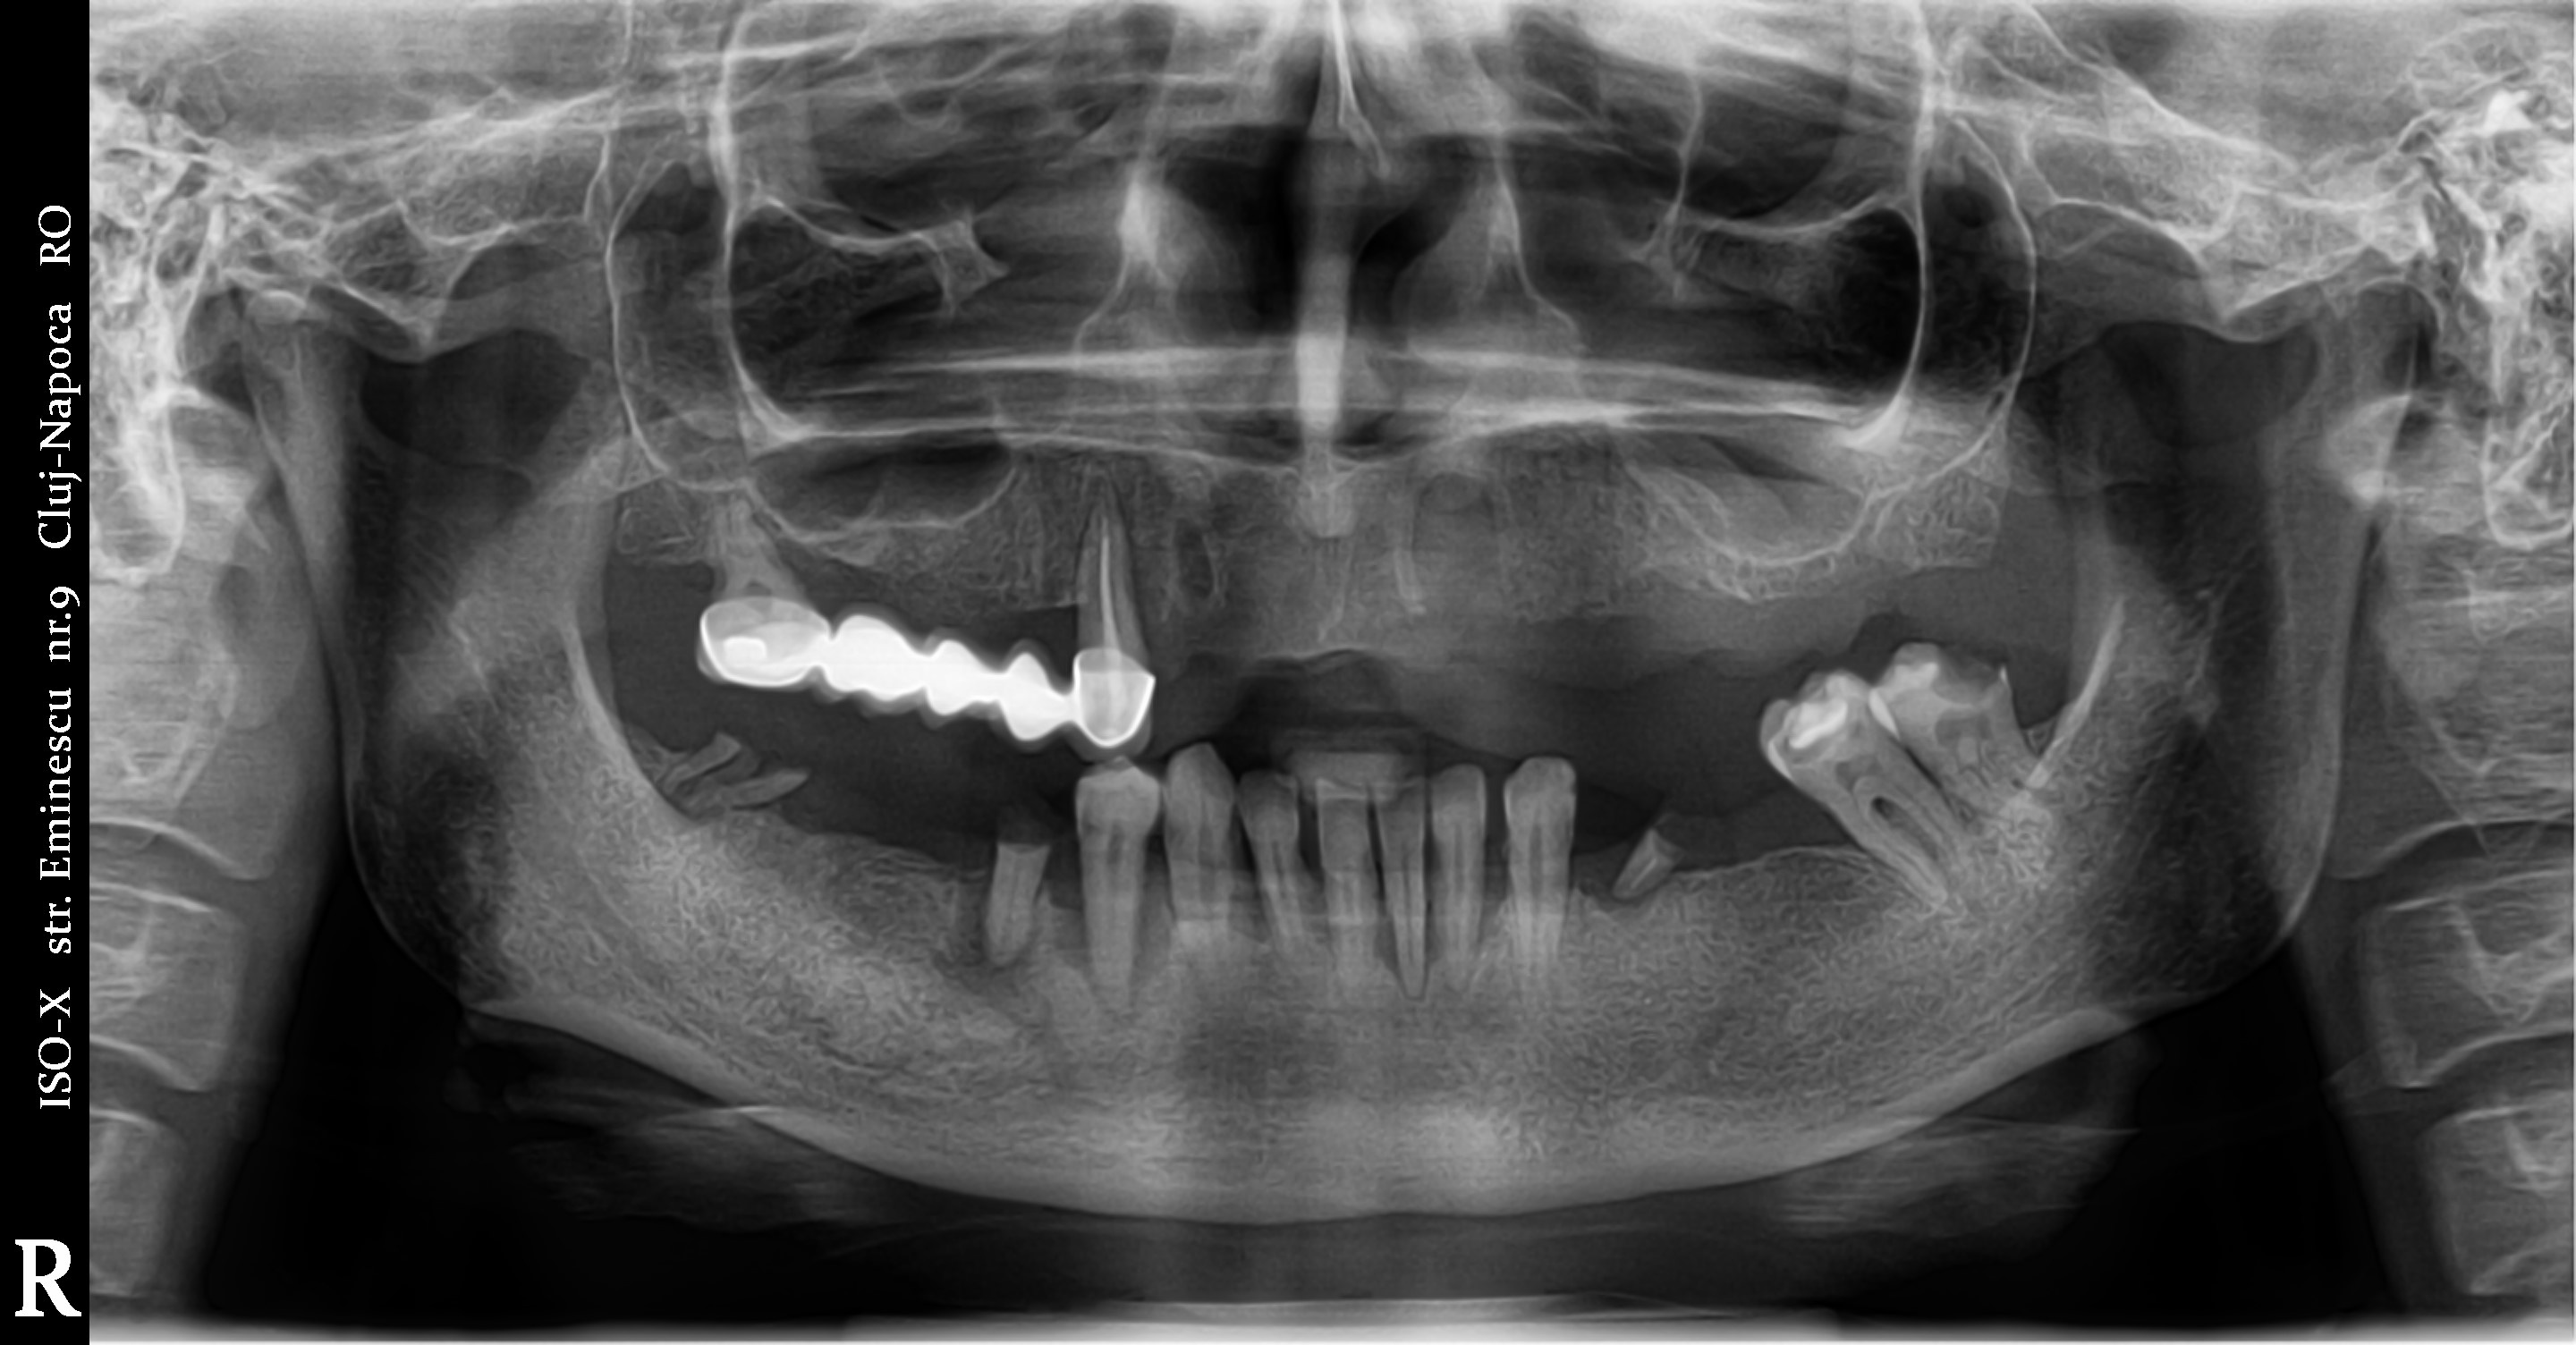BON: (1039, 826, 1101, 987), (1365, 846, 1409, 981), (1412, 844, 1448, 972), (1222, 853, 1278, 933), (1472, 838, 1513, 936), (738, 512, 811, 564), (1297, 833, 1331, 938), (1051, 567, 1090, 644), (1140, 850, 1179, 923)
CAR: (1912, 620, 2021, 722), (1755, 724, 1849, 775)
END: (1077, 485, 1136, 652)
FUR: (1852, 780, 1918, 844)
PRR: (685, 579, 1164, 797)
ROT: (683, 732, 813, 824), (649, 724, 775, 807), (1603, 826, 1699, 916)
